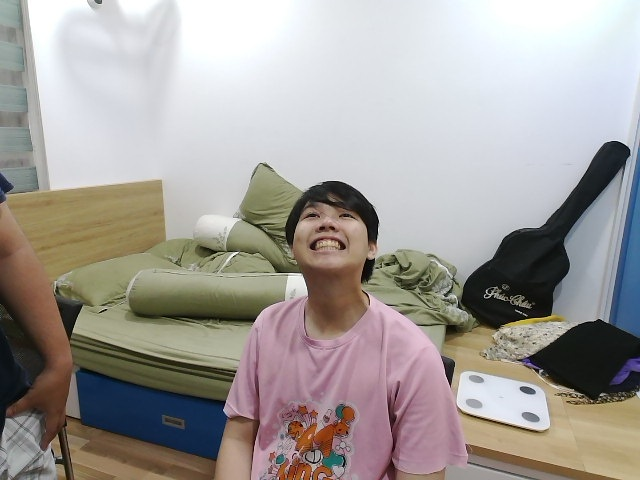face: (286, 181, 379, 269)
